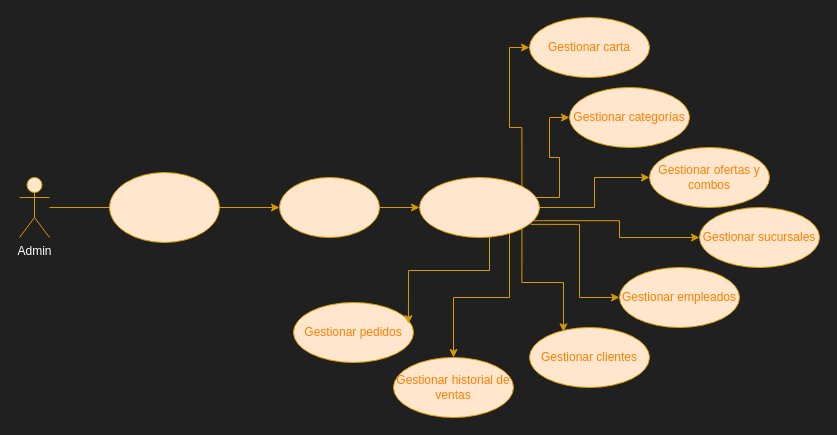
Image size: 837x435. Some labels were removed from this diagram. Each missing label, with the centre of its shape:
"Acceder al panel de administrador" goes at point (479, 207).
"crear una cuenta" goes at point (164, 207).
"Iniciar sesión" goes at point (329, 207).
